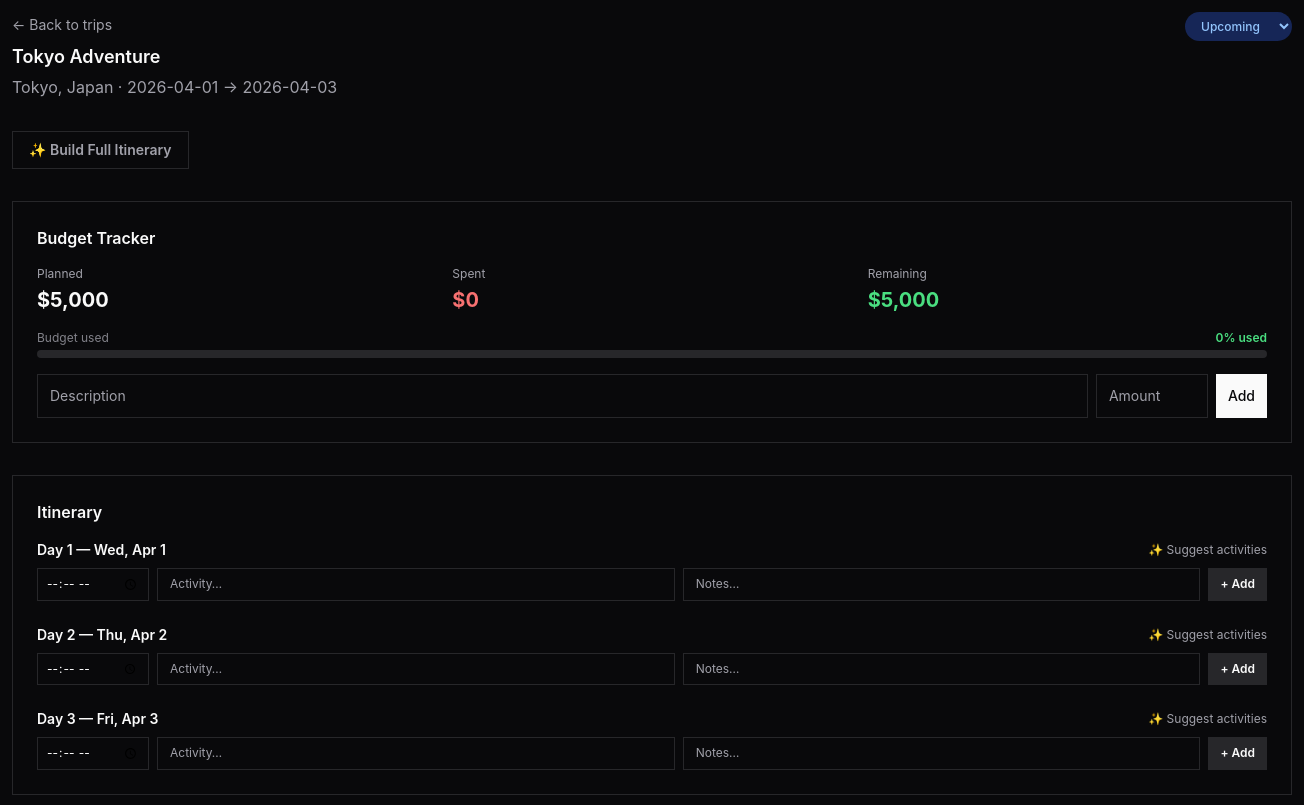
Test case: TripDetail - Build Full Itinerary › shows AI itinerary generated card after success
Click the button with test id "build-itinerary-btn": (100, 150) [12,131,189,169]
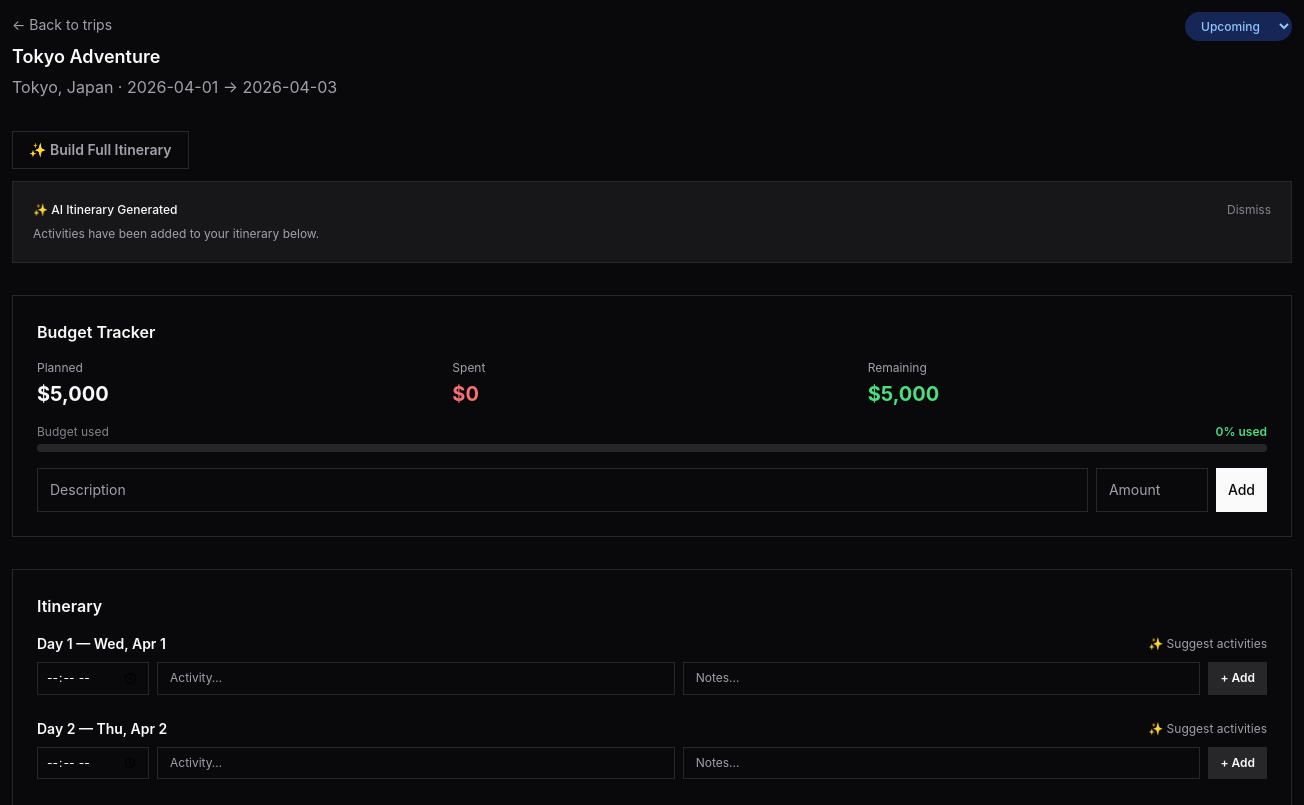
Expected: the text "✨ AI Itinerary Generated" is shown, [33,202,177,218]
